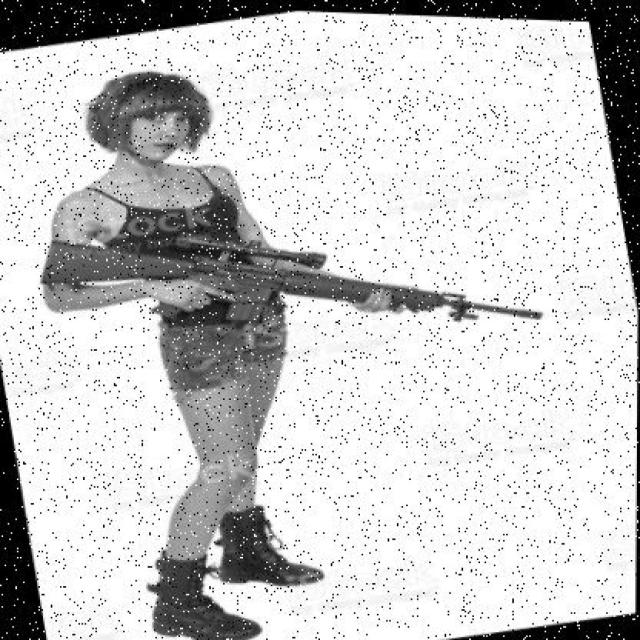weapon: (39, 232, 546, 322)
